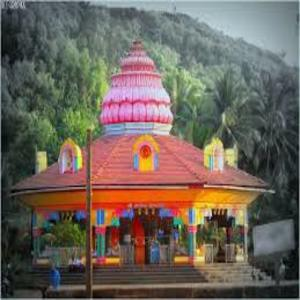Ajoba_Temple: (3, 34, 290, 291)
